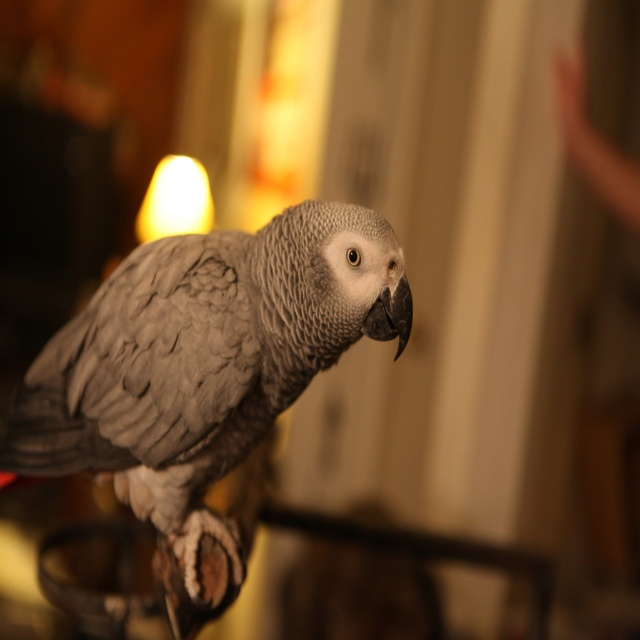Parrot: (0, 199, 413, 611)
